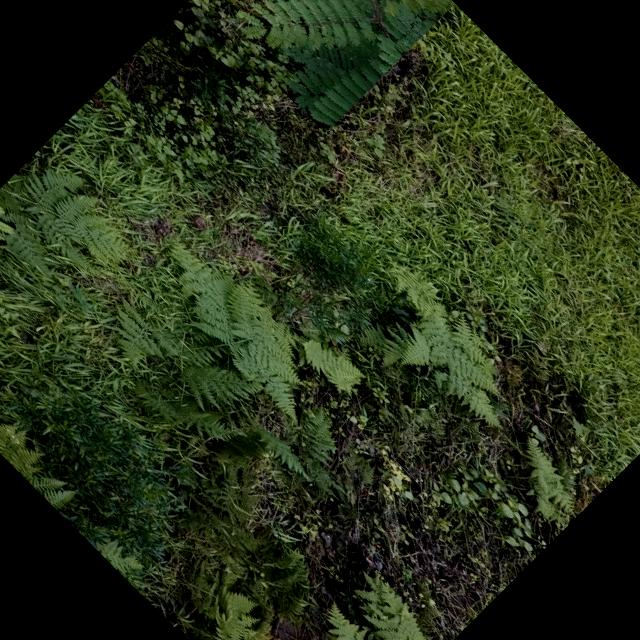Mysore-Thorn-Weed: (190, 0, 455, 132)
